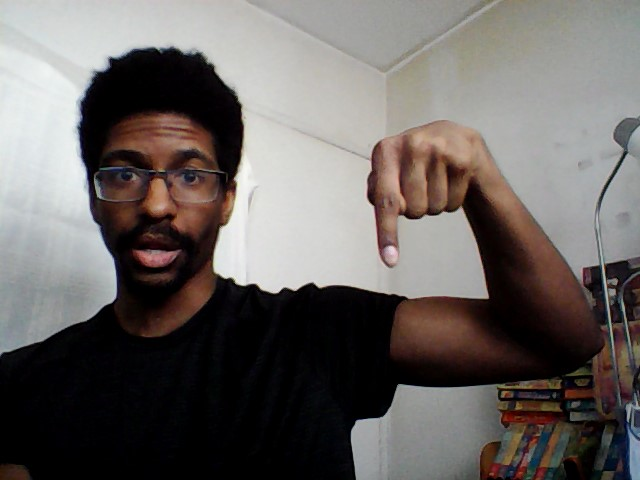q: (361, 115, 490, 270)
